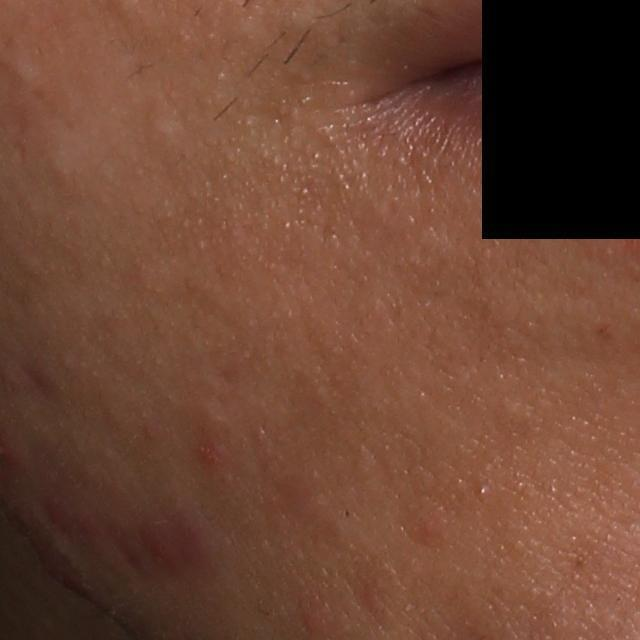comedo: (2, 51, 42, 85)
papule: (140, 518, 182, 573), (199, 439, 225, 466)
